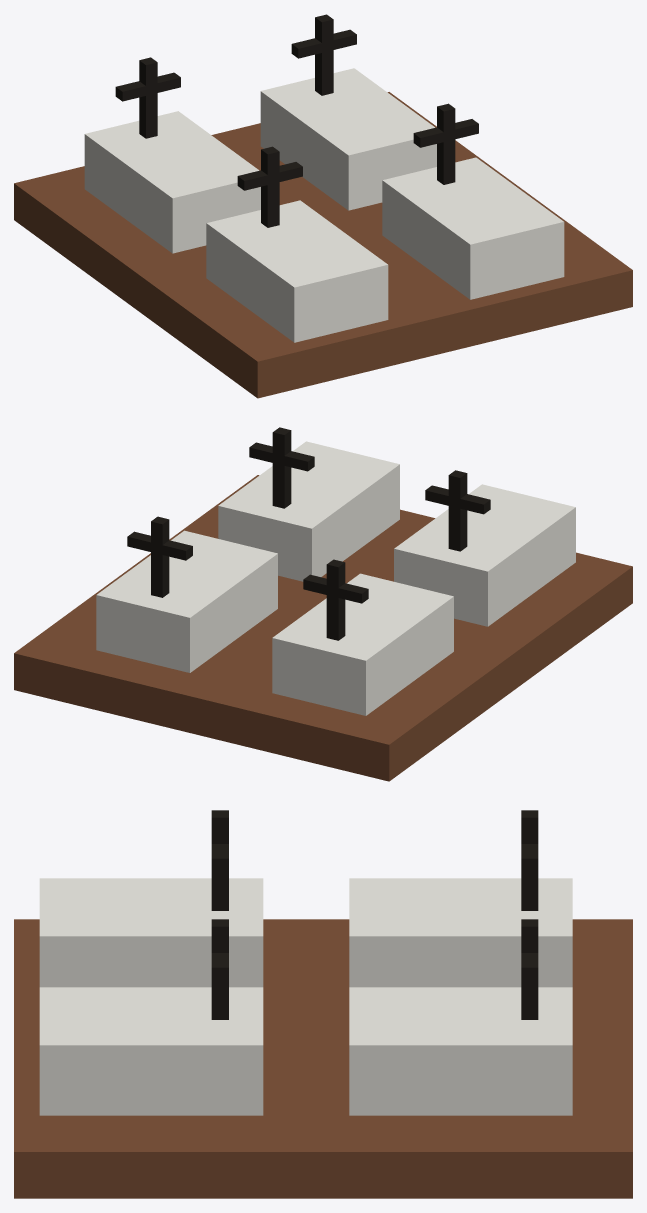
File: tumulos.glb
The picture shows the model from 3 angles, top to bottom: view 1: azimuth 30°, elevation 25°; view 2: azimuth 150°, elevation 25°; view 3: azimuth 270°, elevation 25°; orthographic projection. The views are drawn at different scales.
Parts seen in each view (by area): view 1: tumulos; view 2: tumulos; view 3: tumulos.
Part boxes in pixels (left/top/right/bottom): tumulos: left=14, top=14, right=632, bottom=398; tumulos: left=14, top=427, right=632, bottom=781; tumulos: left=14, top=810, right=632, bottom=1198.
Bounding box in the file's own units: 3.2 × 1.35 × 3.6.
